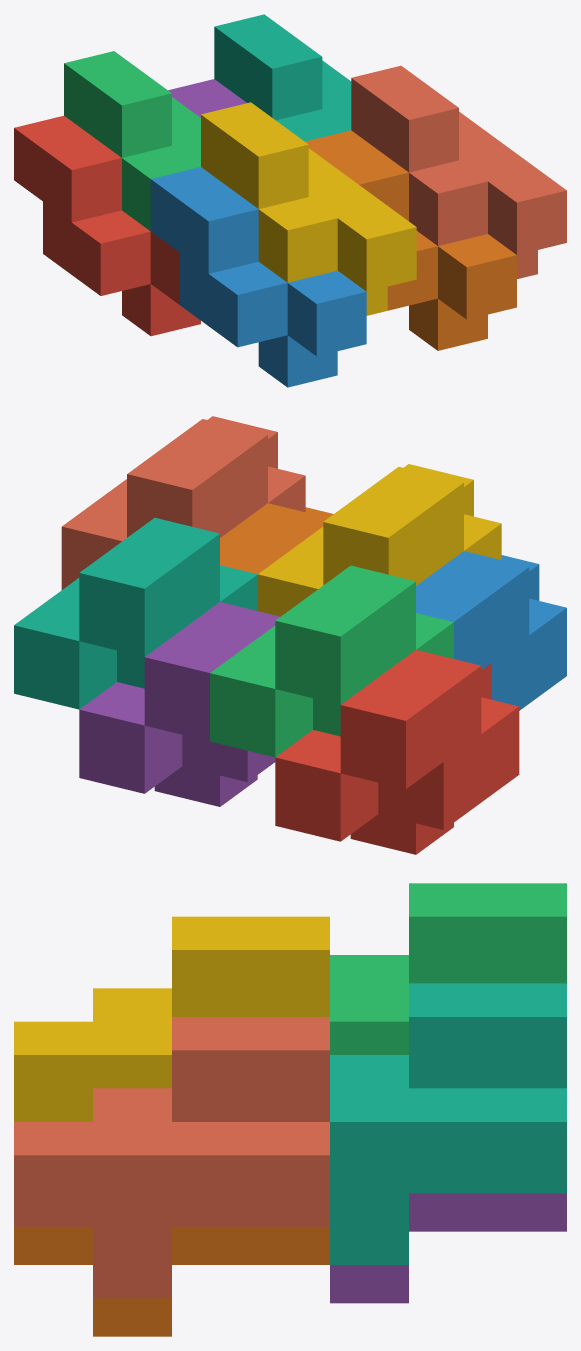
Rendered from tiling.obj.
3 views of the same model, one above another, from view 1: azimuth 30°, elevation 25°; view 2: azimuth 150°, elevation 25°; view 3: azimuth 270°, elevation 25° (orthographic). The views are drawn at different scales.
Visible parts, largest first — view 1: copy_1_domain_2, copy_1_domain_4, copy_1_domain_8, copy_1_domain_1, copy_1_domain_6, copy_1_domain_3, copy_1_domain_7, copy_1_domain_5; view 2: copy_1_domain_1, copy_1_domain_7, copy_1_domain_3, copy_1_domain_5, copy_1_domain_8, copy_1_domain_4, copy_1_domain_2, copy_1_domain_6; view 3: copy_1_domain_8, copy_1_domain_7, copy_1_domain_4, copy_1_domain_3, copy_1_domain_6, copy_1_domain_5.
Part boxes in pixels (<box>): copy_1_domain_2: <box>150,167,366,387</box>; copy_1_domain_4: <box>201,102,416,315</box>; copy_1_domain_8: <box>351,65,566,278</box>; copy_1_domain_1: <box>14,115,200,336</box>; copy_1_domain_6: <box>305,130,516,350</box>; copy_1_domain_3: <box>64,51,200,230</box>; copy_1_domain_7: <box>214,14,351,141</box>; copy_1_domain_5: <box>168,79,246,117</box>; copy_1_domain_1: <box>275,650,519,854</box>; copy_1_domain_7: <box>14,517,257,709</box>; copy_1_domain_3: <box>210,565,453,757</box>; copy_1_domain_5: <box>79,602,280,806</box>; copy_1_domain_8: <box>61,416,305,589</box>; copy_1_domain_4: <box>257,464,501,616</box>; copy_1_domain_2: <box>416,551,566,710</box>; copy_1_domain_6: <box>220,503,333,574</box>; copy_1_domain_8: <box>14,1017,329,1298</box>; copy_1_domain_7: <box>330,983,566,1264</box>; copy_1_domain_4: <box>14,916,329,1121</box>; copy_1_domain_3: <box>330,883,566,1054</box>; copy_1_domain_6: <box>14,1227,329,1336</box>; copy_1_domain_5: <box>330,1193,566,1303</box>.
Bounding box in the file's own units: 7 × 4 × 7.
